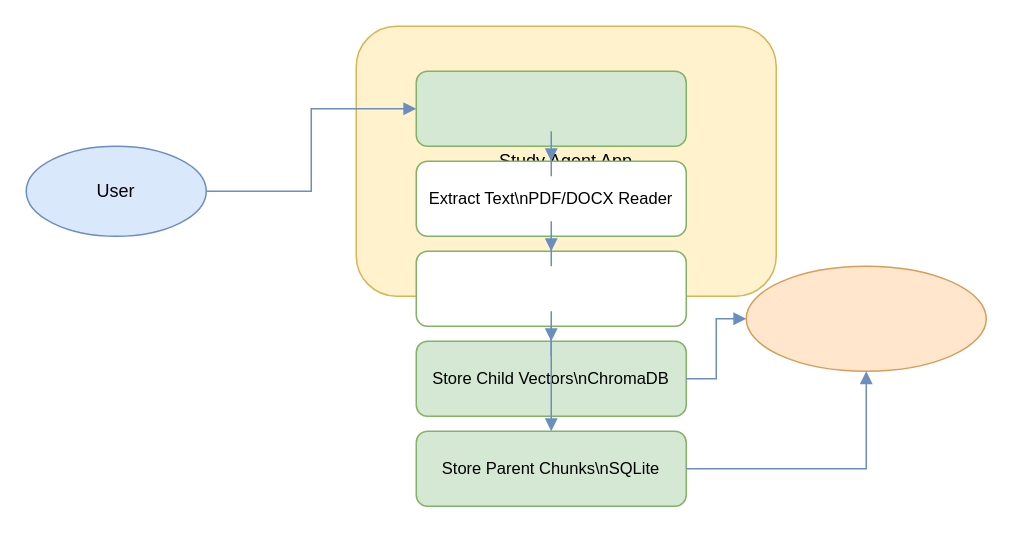
Image size: 1013x533. Some labels were removed from this diagram. Each missing label, with the centre of its shape:
Chunking\nParent/Child + Recursive: pixel 550 288
Document Indexed\nfor Search: pixel 865 318
Select Document\n(PDF / DOCX): pixel 550 108
